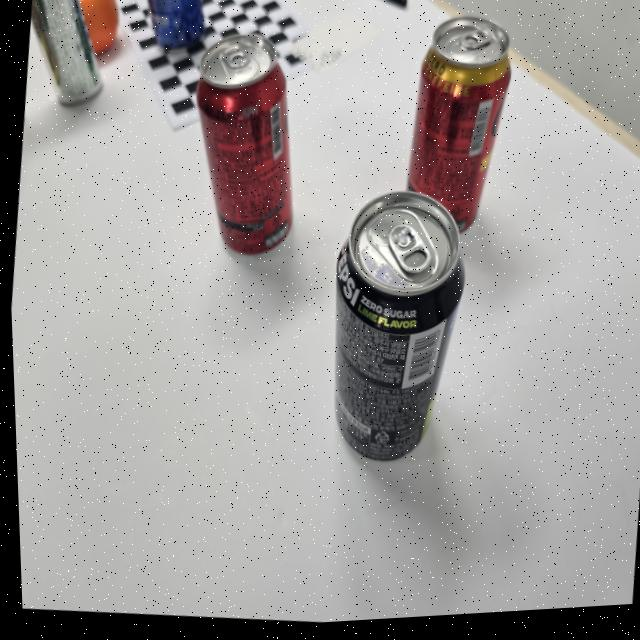can_coke_decaf: (402, 15, 513, 240)
can_coke_zero: (192, 36, 297, 259)
can_pepsi_zero: (329, 190, 467, 464)
